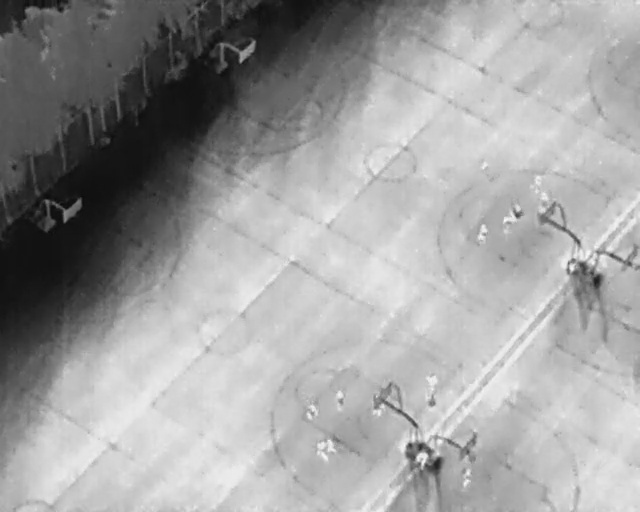Person: (411, 447, 432, 472), (301, 401, 321, 423), (370, 393, 387, 418), (458, 466, 476, 489), (527, 171, 544, 193), (475, 223, 490, 244), (537, 191, 550, 215), (426, 372, 438, 396), (317, 441, 330, 461), (334, 389, 346, 410), (477, 158, 492, 174), (512, 202, 525, 220), (503, 214, 513, 237), (325, 437, 337, 454)
